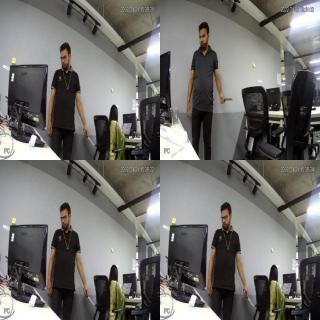knife: (83, 288, 93, 307), (84, 130, 94, 148), (246, 293, 254, 309), (222, 94, 234, 102)
